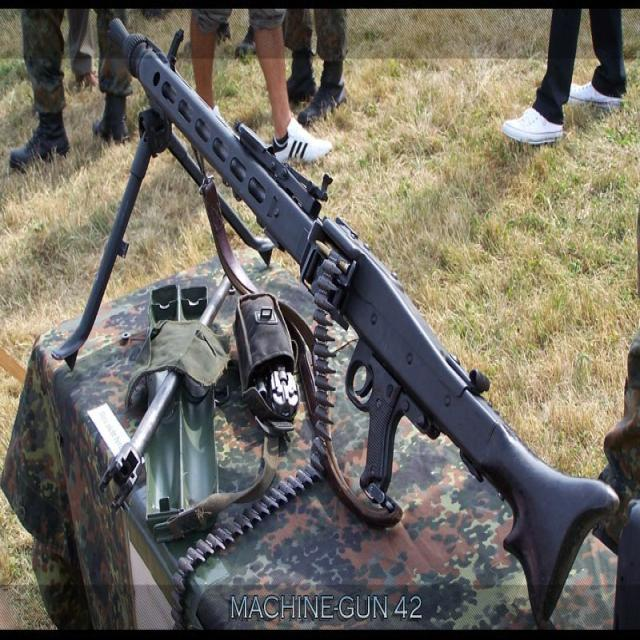firearm: (109, 19, 614, 624)
